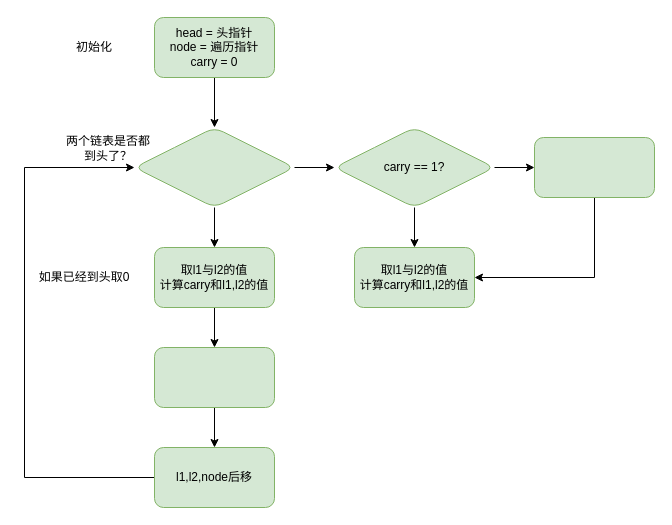
This 672x525 diagram has some shape labels left out. The centre of each missing label's shape, as x and y in pixels:
"l1 != null || l2 != null" goes at [214,167].
"处理好节点值与carry" goes at [214,377].
"补足最后一个节点" goes at [594,167].
